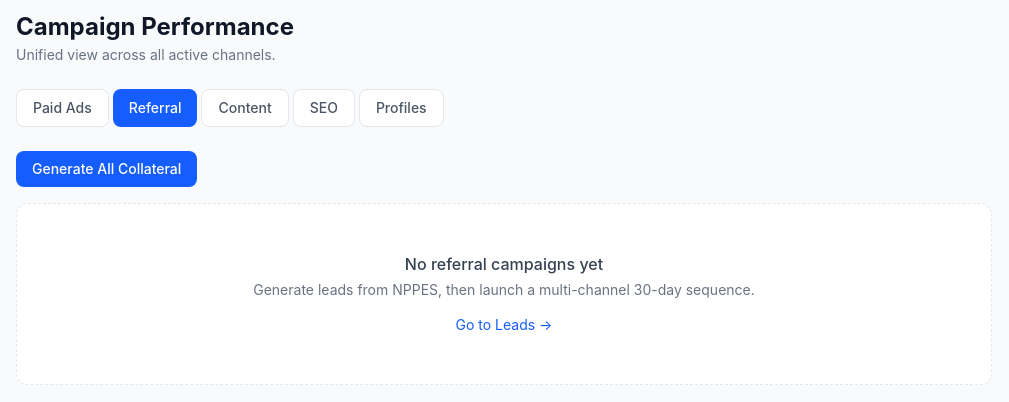
Scenario: Campaigns page › switches to Content tab and shows generate button
Click the button "Content" at coordinates (245, 108), box [202,89,289,127]
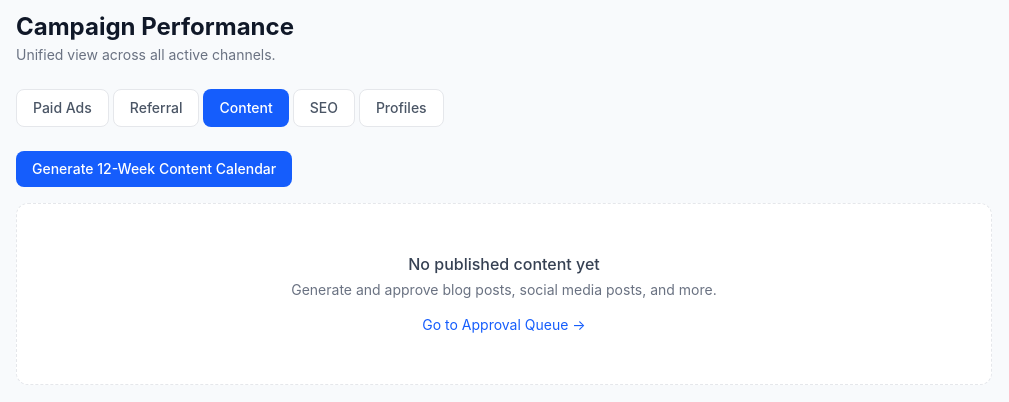
Check: the button "Generate 12-Week Content Calendar" is shown, box [16,151,292,187]
